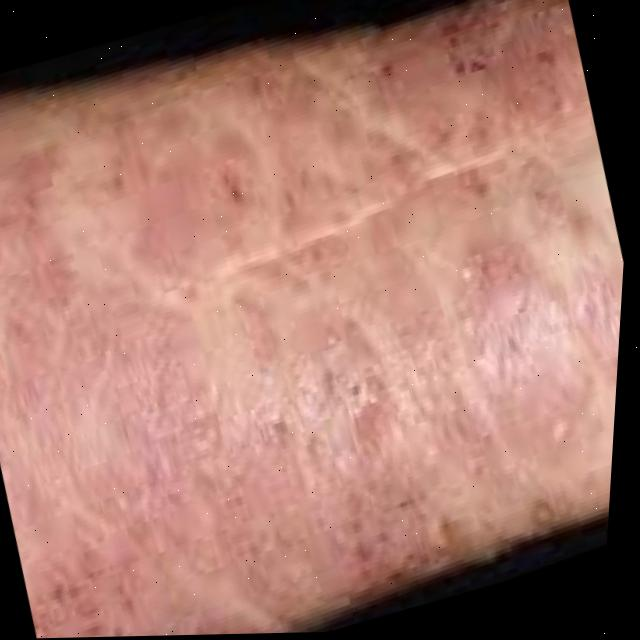Eczema: (0, 1, 639, 640)
